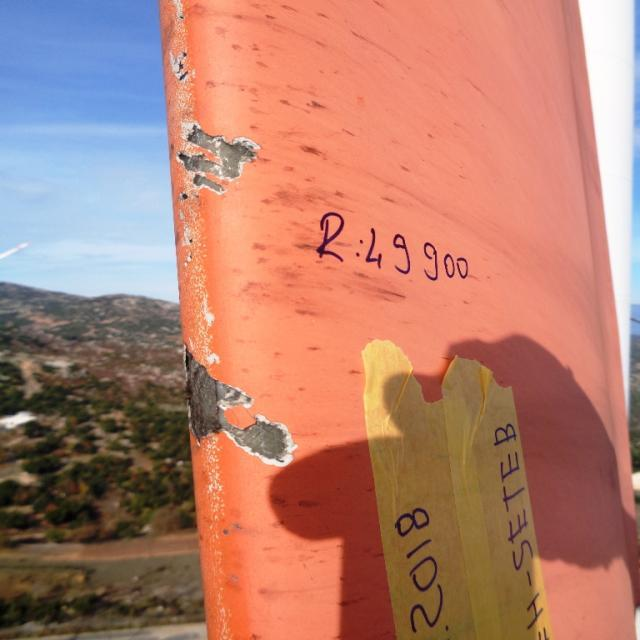Coating_defects: (184, 345, 303, 468), (175, 117, 270, 206)
EROSION: (190, 442, 240, 639), (175, 214, 216, 338), (160, 1, 202, 113)
